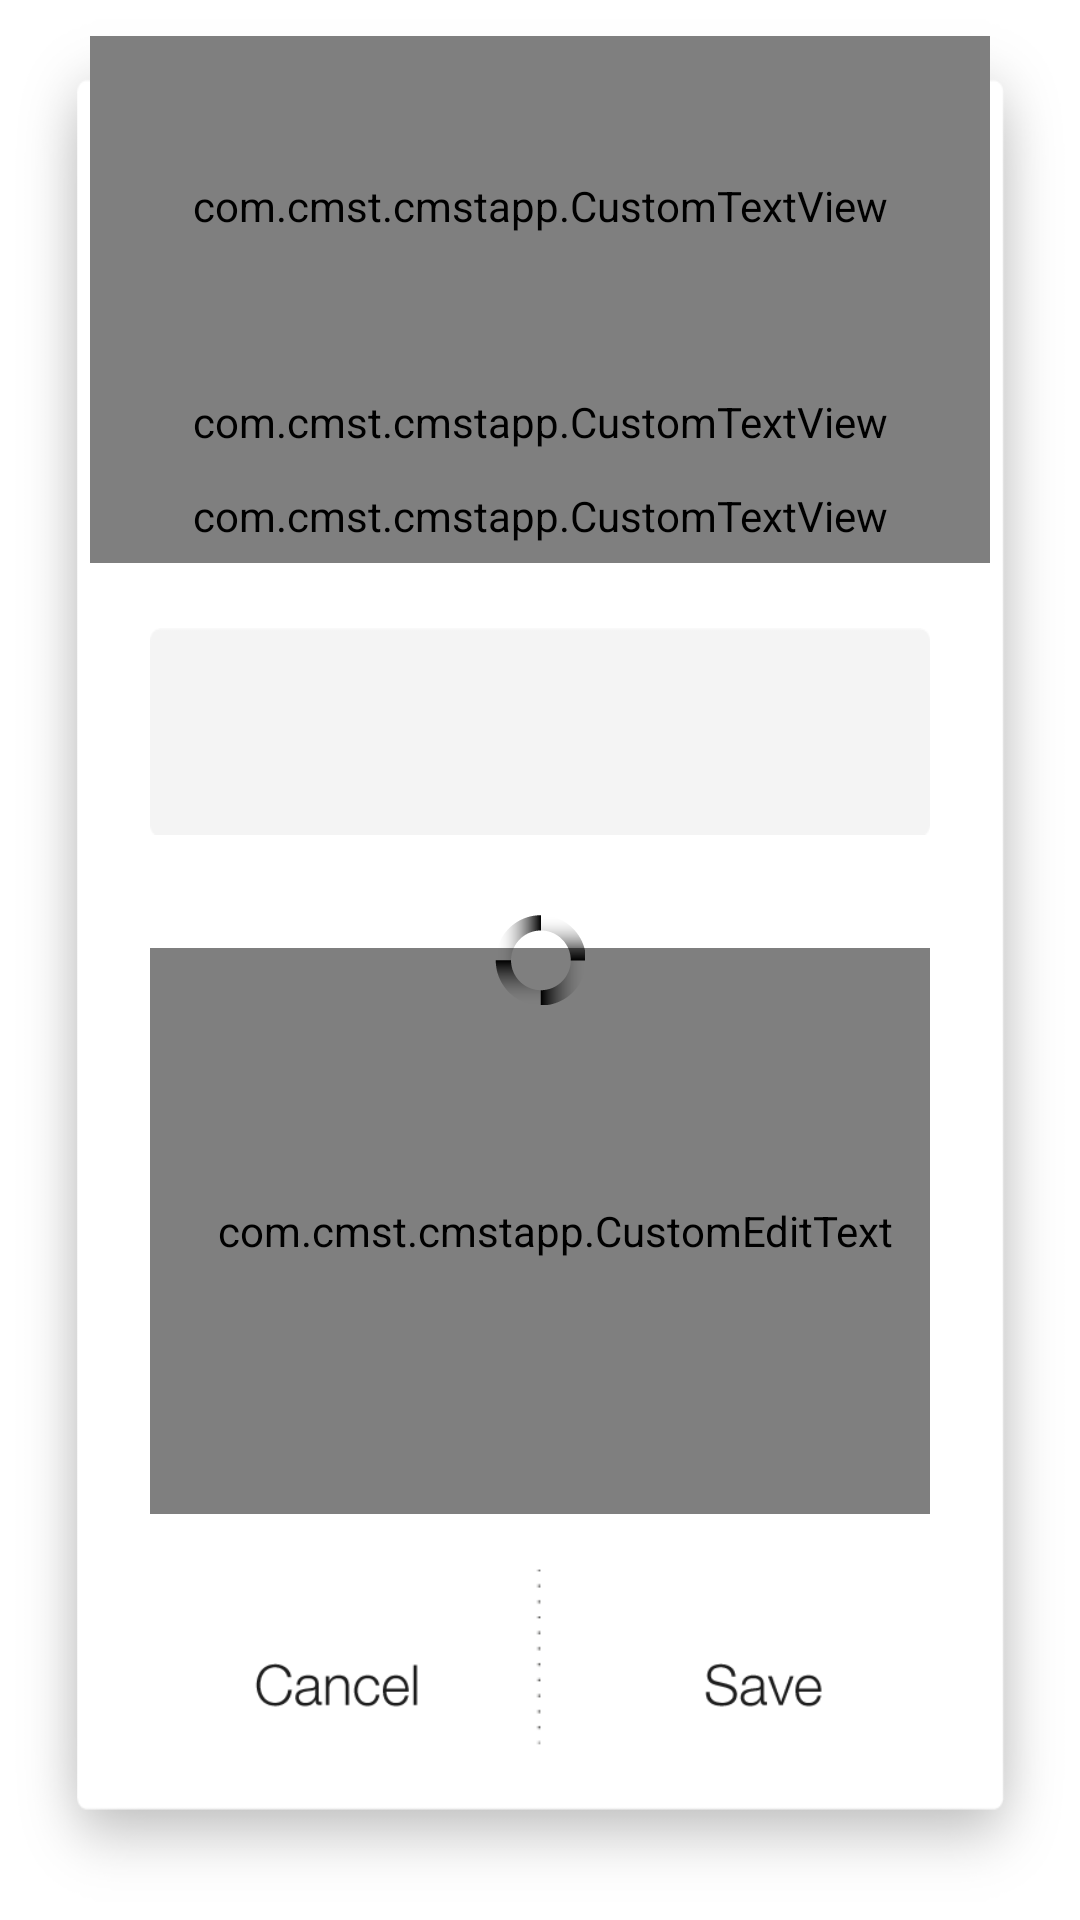

Named icons in this screenshot (1080*1920) and their centers, point (x, y):
loading: point (540, 960)
